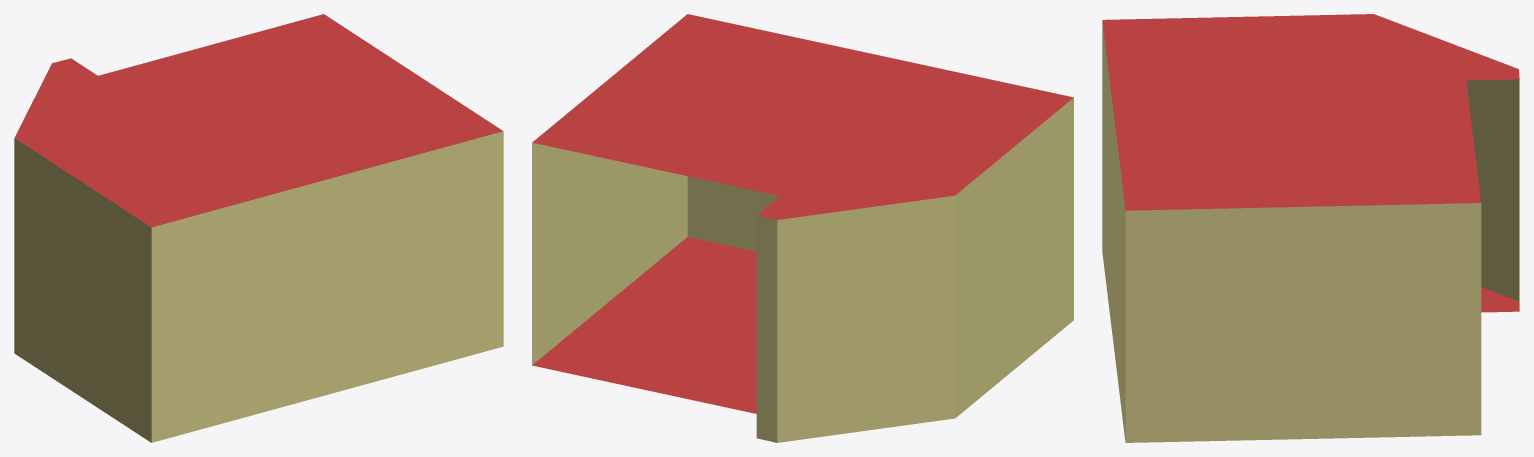
The picture shows the model from 3 angles, left to right: view 1: azimuth 30°, elevation 25°; view 2: azimuth 150°, elevation 25°; view 3: azimuth 270°, elevation 25°; orthographic projection. The views are drawn at different scales.
Bounding box in the file's own units: 9.63 × 8.63 × 5.3.
